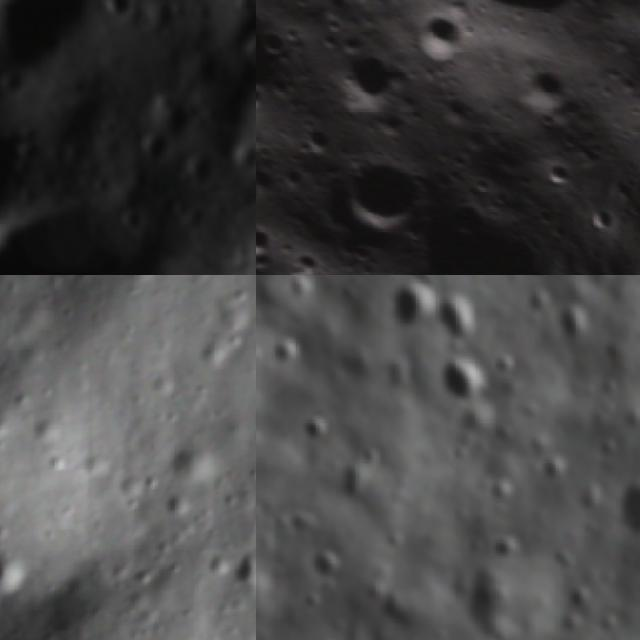crater: (0, 162, 163, 275), (395, 0, 640, 66), (0, 44, 69, 275), (0, 0, 137, 106), (319, 131, 439, 251), (256, 0, 310, 122), (335, 48, 407, 120), (436, 346, 501, 424), (401, 2, 472, 72), (144, 79, 213, 147), (124, 115, 185, 177), (173, 134, 231, 194), (432, 292, 494, 347), (522, 61, 576, 116), (530, 148, 584, 202), (229, 0, 256, 93), (390, 275, 438, 327), (612, 462, 640, 546), (275, 503, 322, 549), (256, 210, 289, 275), (0, 548, 35, 596), (296, 412, 335, 454), (286, 242, 329, 275), (308, 549, 348, 584), (227, 544, 256, 588)
